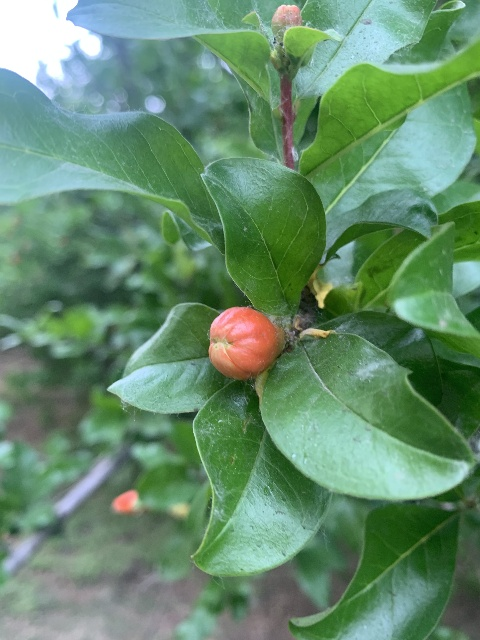bud: (208, 306, 282, 380)
